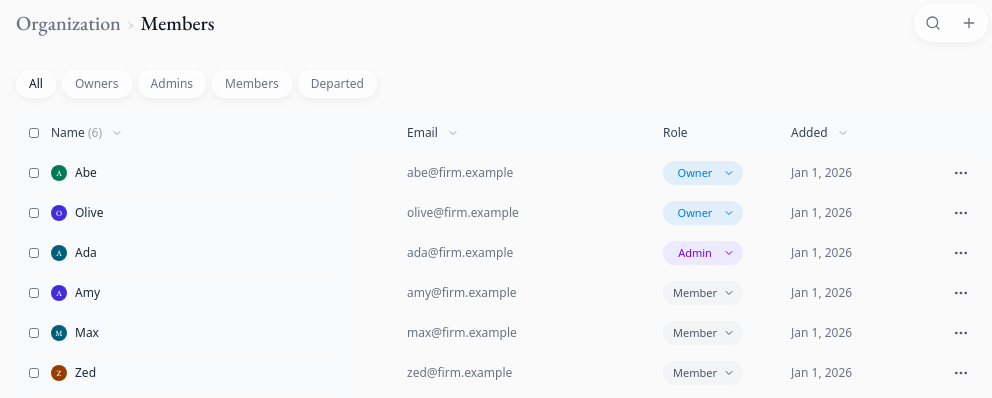
it: OrganizationMembers › the role tabs › shows only that role under Owners, and counts it
The image size is (992, 398).
Check: the text "Olive" is shown, box [75, 205, 103, 221]
Click the button "Owners" at (97, 84), box [62, 70, 132, 98]
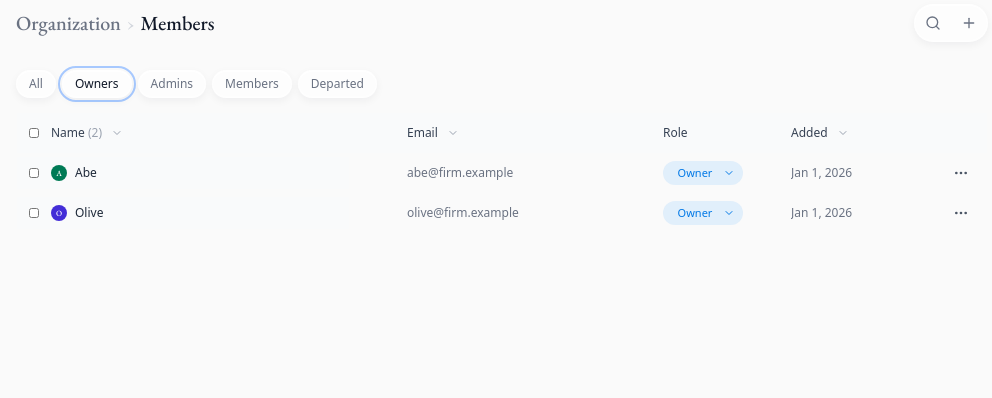
Check: the text "(2)" is shown, box [88, 124, 102, 141]
